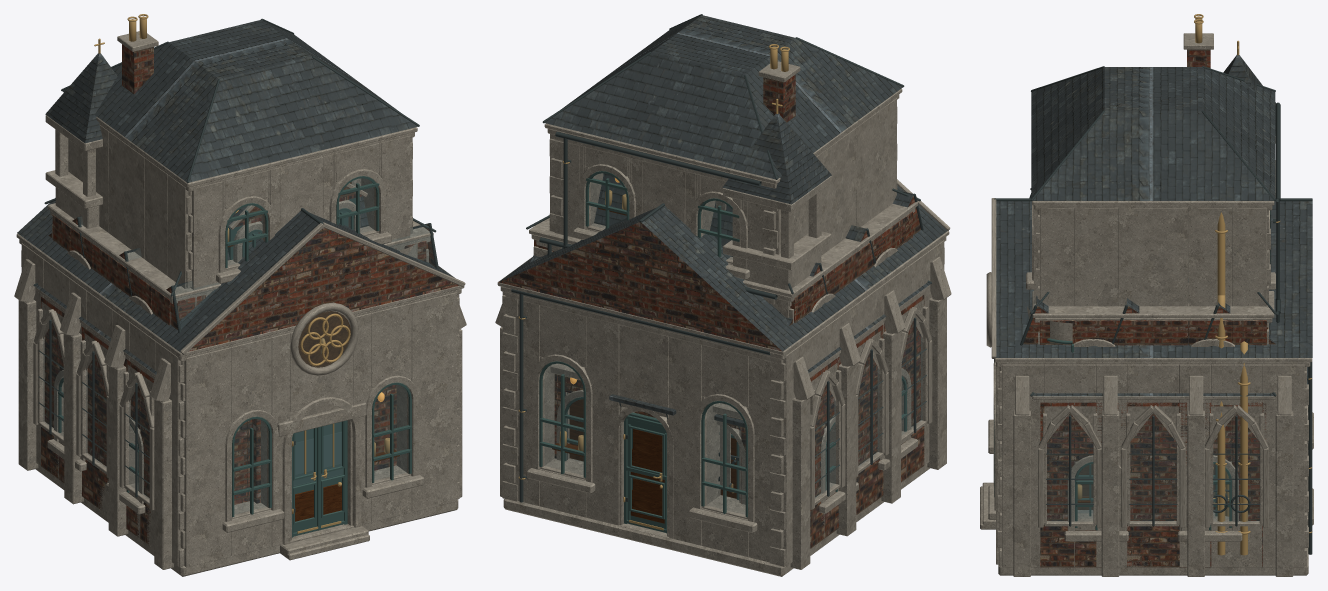
File: city-kit-v1.glb
3 views of the same model, side by side, from view 1: azimuth 30°, elevation 25°; view 2: azimuth 150°, elevation 25°; view 3: azimuth 270°, elevation 25° (orthographic). The views are drawn at different scales.
Parts seen in each view (by area): view 1: City_Chapel_Limestone_trim, City_Townhouse_Real_slate_roof, City_Townhouse_Limestone_trim, City_Chapel_Warm_weathered_brick, City_Chapel_Recessed_blue_green_glass, City_Chapel_Real_slate_roof, City_Chapel_Oxidised_green_joinery, City_PostOffice_Warm_weathered_brick, City_CornerInn_Limestone_trim, City_CornerInn_Warm_weathered_brick, City_Warehouse_Warm_weathered_brick, City_Chapel_Walnut_end_grain (+10 smaller); view 2: City_Chapel_Limestone_trim, City_Townhouse_Real_slate_roof, City_Townhouse_Limestone_trim, City_Chapel_Real_slate_roof, City_Chapel_Warm_weathered_brick, City_Chapel_Recessed_blue_green_glass, City_PostOffice_Warm_weathered_brick, City_Chapel_Oxidised_green_joinery, City_Chapel_Blackened_cast_iron, City_CornerInn_Limestone_trim, City_Chapel_Walnut_end_grain, City_CornerInn_Warm_weathered_brick (+11 smaller); view 3: City_Chapel_Limestone_trim, City_Townhouse_Real_slate_roof, City_Townhouse_Limestone_trim, City_Chapel_Real_slate_roof, City_PostOffice_Warm_weathered_brick, City_Chapel_Recessed_blue_green_glass, City_CornerInn_Warm_weathered_brick, City_CornerInn_Limestone_trim, City_PostOffice_Limestone_trim, City_Chapel_Blackened_cast_iron, City_Townhouse_Blackened_cast_iron, City_Chapel_Aged_satin_brass (+7 smaller).
Part boxes in pixels (x1,y1,x2,y2): City_Chapel_Limestone_trim: (14, 115, 466, 576); City_Townhouse_Real_slate_roof: (62, 19, 417, 182); City_Townhouse_Limestone_trim: (68, 31, 417, 436); City_Chapel_Warm_weathered_brick: (188, 228, 459, 351); City_Chapel_Recessed_blue_green_glass: (43, 311, 406, 513); City_Chapel_Real_slate_roof: (17, 53, 454, 352); City_Chapel_Oxidised_green_joinery: (232, 382, 411, 537); City_PostOffice_Warm_weathered_brick: (41, 297, 154, 544); City_CornerInn_Limestone_trim: (47, 203, 433, 324); City_CornerInn_Warm_weathered_brick: (52, 215, 427, 325); City_Warehouse_Warm_weathered_brick: (48, 218, 435, 504); City_Chapel_Walnut_end_grain: (295, 311, 399, 521); City_Chapel_Limestone_trim: (495, 176, 951, 576); City_Townhouse_Real_slate_roof: (544, 15, 902, 179); City_Townhouse_Limestone_trim: (544, 61, 902, 304); City_Chapel_Real_slate_roof: (499, 113, 947, 415); City_Chapel_Warm_weathered_brick: (498, 222, 781, 351); City_Chapel_Recessed_blue_green_glass: (545, 323, 921, 513); City_PostOffice_Warm_weathered_brick: (810, 295, 924, 548); City_Chapel_Oxidised_green_joinery: (539, 361, 747, 533); City_Chapel_Blackened_cast_iron: (511, 203, 926, 502); City_CornerInn_Limestone_trim: (529, 202, 917, 323); City_Chapel_Walnut_end_grain: (552, 399, 736, 523); City_CornerInn_Warm_weathered_brick: (534, 211, 912, 322); City_Chapel_Limestone_trim: (980, 136, 1313, 576); City_Townhouse_Real_slate_roof: (1031, 67, 1275, 200); City_Townhouse_Limestone_trim: (993, 33, 1275, 414); City_Chapel_Real_slate_roof: (996, 55, 1312, 384); City_PostOffice_Warm_weathered_brick: (1040, 402, 1266, 567); City_Chapel_Recessed_blue_green_glass: (1047, 413, 1258, 520); City_CornerInn_Warm_weathered_brick: (1040, 320, 1268, 345); City_CornerInn_Limestone_trim: (1027, 291, 1274, 346); City_PostOffice_Limestone_trim: (1032, 283, 1274, 541); City_Chapel_Blackened_cast_iron: (994, 198, 1312, 554); City_Townhouse_Blackened_cast_iron: (1031, 66, 1280, 484); City_Chapel_Aged_satin_brass: (1077, 40, 1312, 555).
Bounding box in the file's own units: 6.87 × 9.95 × 6.62.
9 materials, 4 textured.
